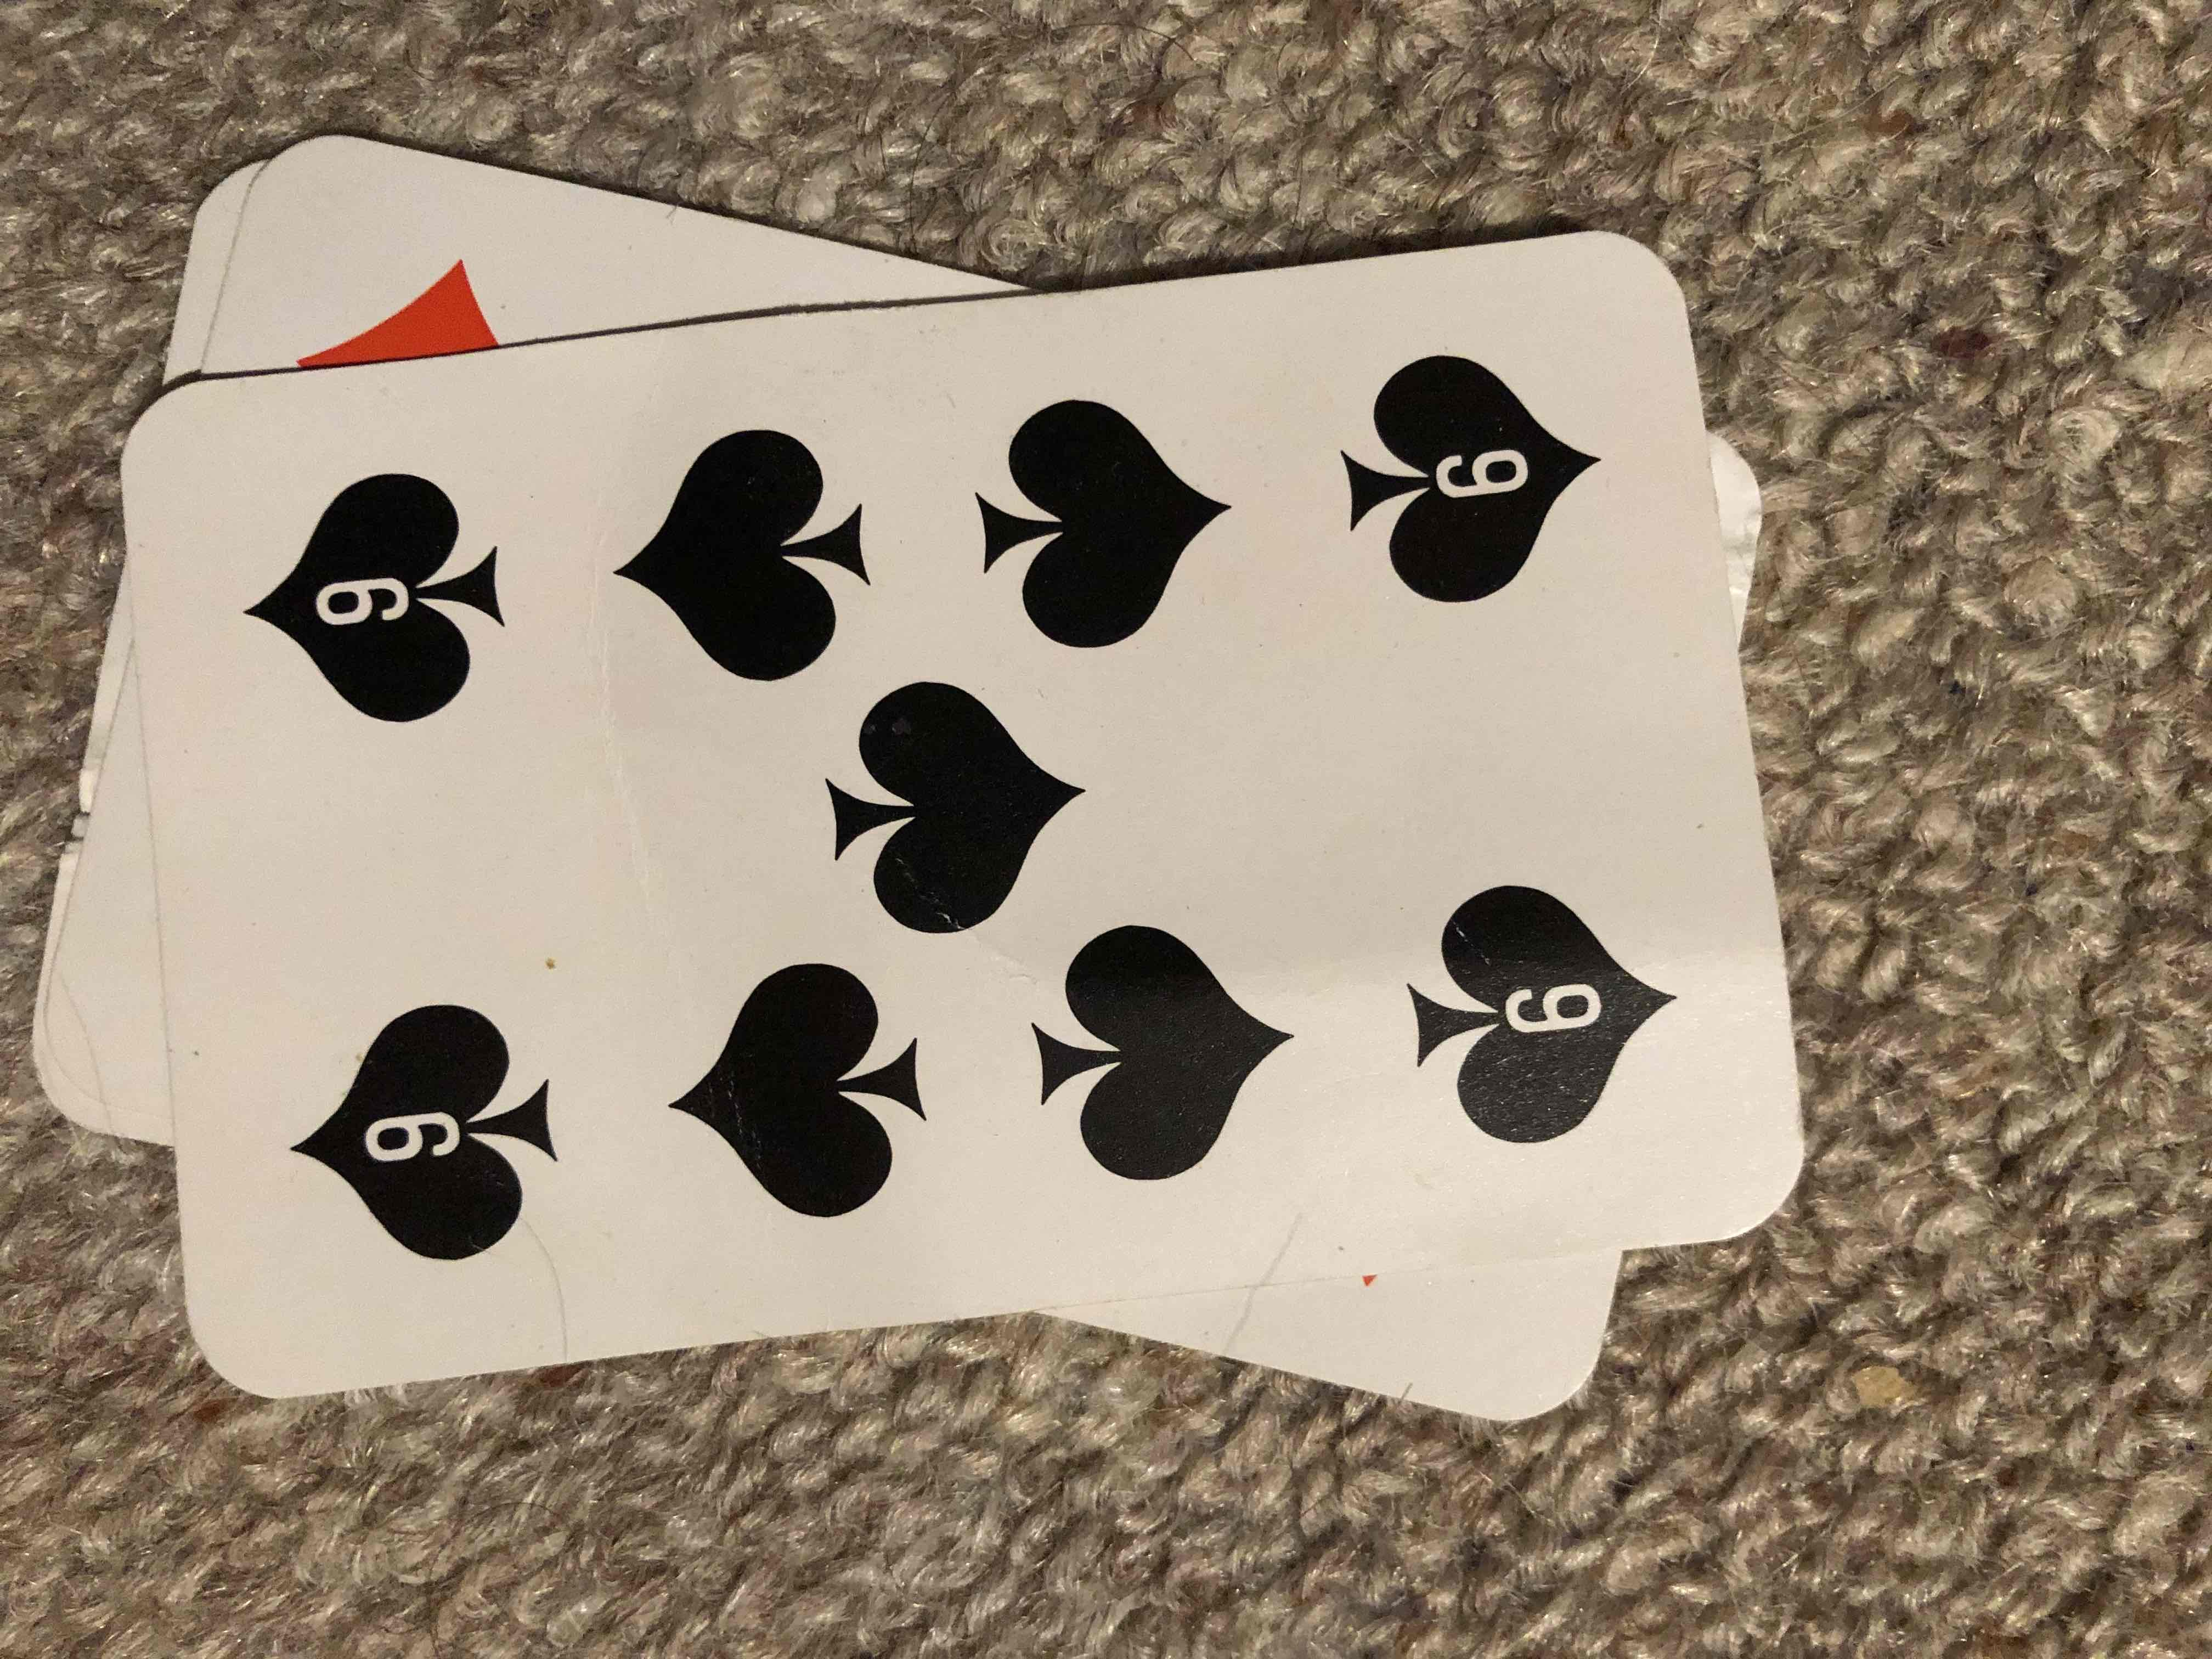spades9: (141, 336, 1784, 1331)
